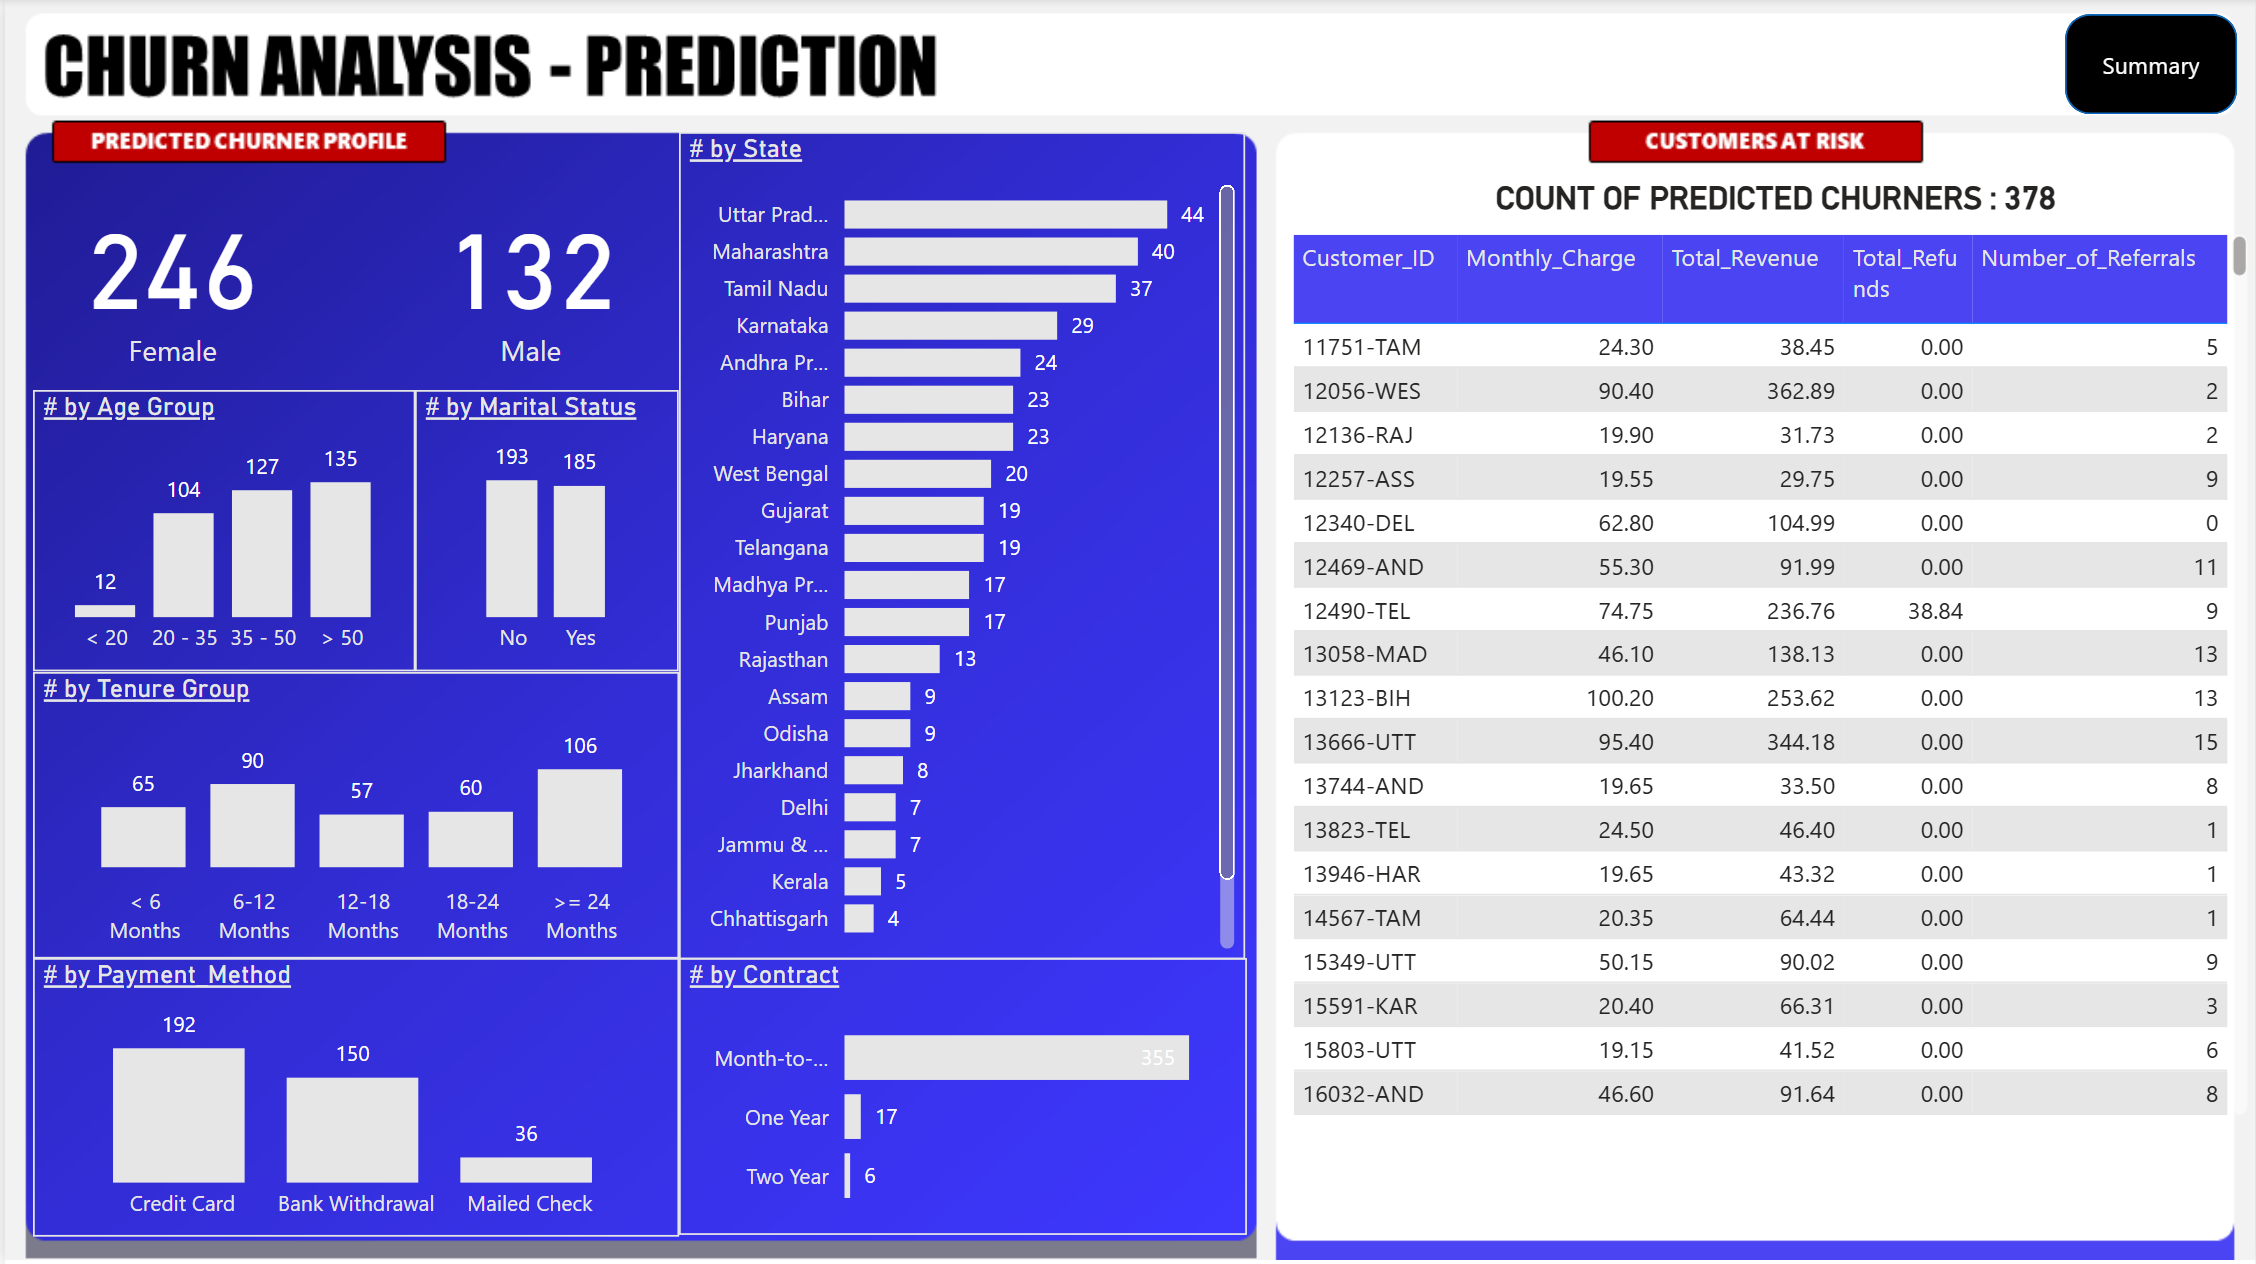

This screenshot's page, from the dashboard's own definition file:
{"tool":"powerbi","page":{"name":"Churn Prediction","canvas":[1280,720],"ordinal":2},"visuals":[{"type":"tableEx","fields":{"Values":["Prediction.Customer_ID","Prediction.Monthly_Charge","Prediction.Total_Revenue","Prediction.Total_Refunds","Prediction.Number_of_Referrals"]},"box":[726.5,130.1,553.5,510.6],"z":0},{"type":"card","fields":{"Values":["tbl_Measures.Title Predicted Churner"]},"box":[808,54.3,399,118.7],"z":1},{"type":"card","fields":{"Values":["tbl_Measures.Count Predicted Churner"]},"box":[30,93,131.6,130.1],"z":2},{"type":"card","fields":{"Values":["tbl_Measures.Count Predicted Churner"]},"box":[233.1,93,131.6,130.1],"z":3},{"type":"clusteredColumnChart","fields":{"Category":["mapping_AgeGrp.Age Group"],"Y":["CountNonNull(Prediction.Customer_ID)"]},"box":[15.7,223.1,217.4,160.2],"z":4},{"type":"clusteredColumnChart","fields":{"Category":["Prediction.Married"],"Y":["CountNonNull(Prediction.Customer_ID)"]},"box":[233.1,223.1,150.2,160.2],"z":5},{"type":"clusteredColumnChart","fields":{"Y":["CountNonNull(Prediction.Customer_ID)"],"Category":["mapping_TenureGrp.Tenure Group"]},"box":[15.7,383.3,367.6,163],"z":6},{"type":"clusteredColumnChart","fields":{"Y":["CountNonNull(Prediction.Customer_ID)"],"Category":["Prediction.Payment_Method"]},"box":[15.7,546.3,367.6,158.7],"z":7},{"type":"clusteredBarChart","fields":{"Category":["Prediction.Contract"],"Y":["CountNonNull(Prediction.Customer_ID)"]},"box":[383.3,546.3,323.2,157.3],"z":8},{"type":"clusteredBarChart","fields":{"Category":["Prediction.State"],"Y":["CountNonNull(Prediction.Customer_ID)"]},"box":[383.3,75.8,321.8,470.5],"z":9},{"type":"shape","title":"Summary","box":[1172,9,98,57],"z":10}]}

Visuals, with their boxes in screenshot pixels (x1, y1, x2, y2), scaled from the page's 1280x720 canvas onto the 2256x1264 screenshot:
tableEx - Prediction.Customer_ID x Prediction.Monthly_Charge: (x1=1280, y1=228, x2=2255, y2=1125)
card - tbl_Measures.Title Predicted Churner: (x1=1424, y1=95, x2=2127, y2=304)
card - tbl_Measures.Count Predicted Churner: (x1=53, y1=163, x2=285, y2=392)
card - tbl_Measures.Count Predicted Churner: (x1=411, y1=163, x2=643, y2=392)
clusteredColumnChart - mapping_AgeGrp.Age Group x CountNonNull(Prediction.Customer_ID): (x1=28, y1=392, x2=411, y2=673)
clusteredColumnChart - Prediction.Married x CountNonNull(Prediction.Customer_ID): (x1=411, y1=392, x2=676, y2=673)
clusteredColumnChart - CountNonNull(Prediction.Customer_ID) x mapping_TenureGrp.Tenure Group: (x1=28, y1=673, x2=676, y2=959)
clusteredColumnChart - CountNonNull(Prediction.Customer_ID) x Prediction.Payment_Method: (x1=28, y1=959, x2=676, y2=1238)
clusteredBarChart - Prediction.Contract x CountNonNull(Prediction.Customer_ID): (x1=676, y1=959, x2=1245, y2=1235)
clusteredBarChart - Prediction.State x CountNonNull(Prediction.Customer_ID): (x1=676, y1=133, x2=1243, y2=959)
"Summary" shape: (x1=2066, y1=16, x2=2238, y2=116)
